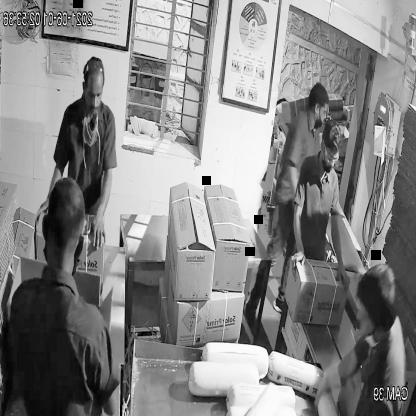goggles: (320, 145, 340, 166)
no_goggles: (80, 77, 106, 105)
